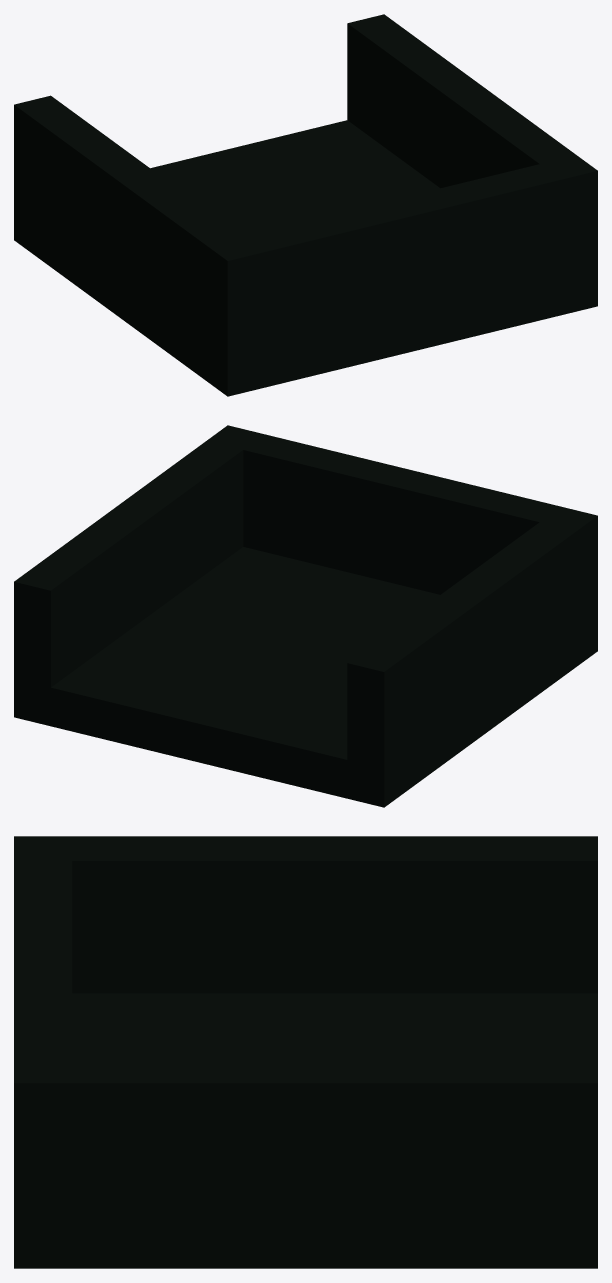
File: BlackRoof_3Edges_Small.glb
3 views of the same model, one above another, from view 1: azimuth 30°, elevation 25°; view 2: azimuth 150°, elevation 25°; view 3: azimuth 270°, elevation 25° (orthographic). The views are drawn at different scales.
Visible parts, largest first — view 1: roof_flat_3Edges_small_black; view 2: roof_flat_3Edges_small_black; view 3: roof_flat_3Edges_small_black.
Part boxes in pixels (x1,y1,x2,y2): roof_flat_3Edges_small_black: (14, 14, 597, 396); roof_flat_3Edges_small_black: (14, 425, 597, 807); roof_flat_3Edges_small_black: (14, 836, 597, 1268).
Size of what is drawn, in the model's own units: 2 by 0.7 by 2.
Materials: 1 (1 with a texture image).
